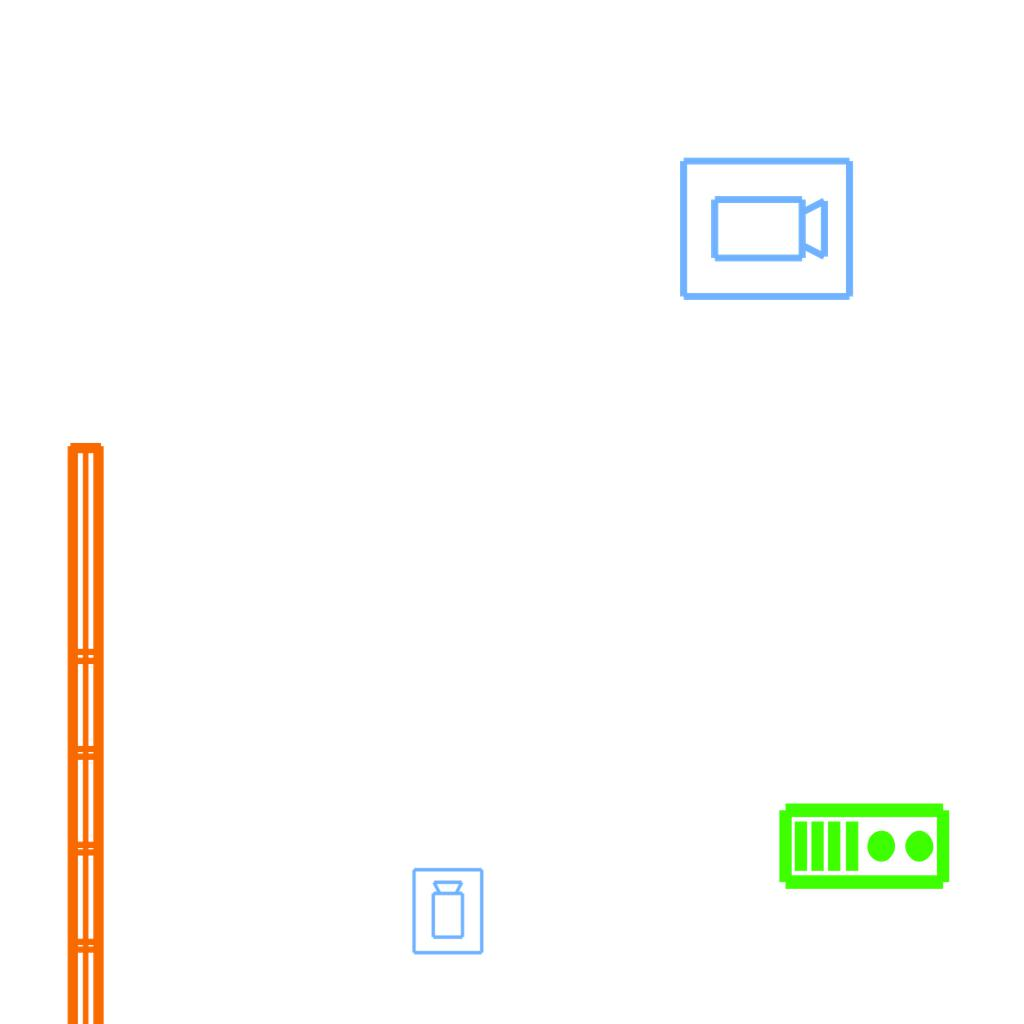Ambulanz_Pendelleuchte_LED: (55, 432, 167, 1024)
Gegensprechanlage_mit_Video: (777, 797, 953, 892)
KFO_Kamera_mit_Festobjektiv: (675, 153, 857, 307), (410, 866, 487, 957)
